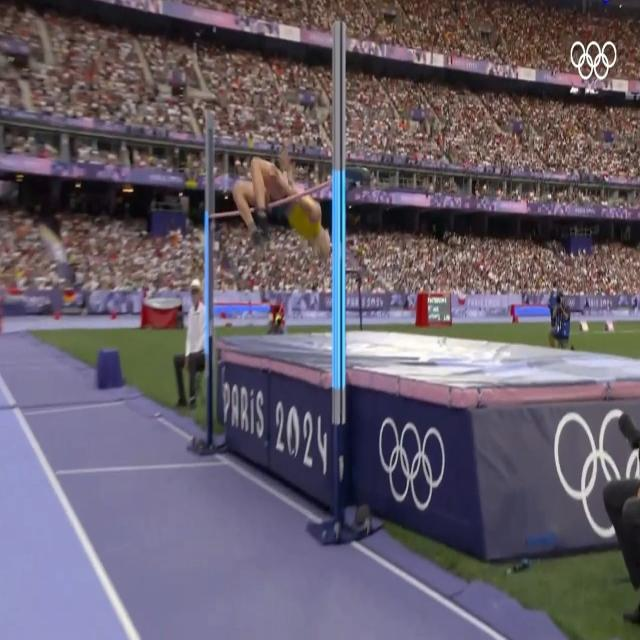jump: (225, 152, 331, 261)
